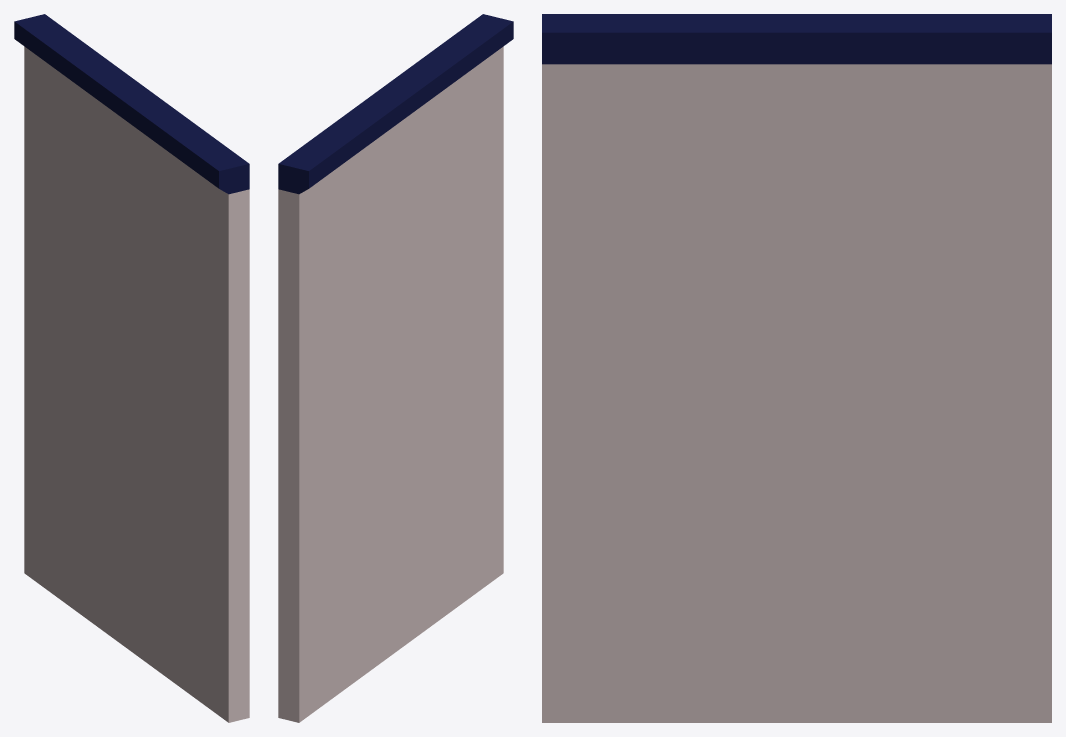
File: Wall3.001.fbx
The picture shows the model from 3 angles, left to right: view 1: azimuth 30°, elevation 25°; view 2: azimuth 150°, elevation 25°; view 3: azimuth 270°, elevation 25°; orthographic projection. The views are drawn at different scales.
Parts seen in each view (by area): view 1: Wall3.001; view 2: Wall3.001; view 3: Wall3.001.
Boxes of the visible parts, x1,y1,x2,y2 form: Wall3.001: (14,14,249,722); Wall3.001: (278,14,513,722); Wall3.001: (542,14,1051,722).
Bounding box in the file's own units: 2.8 × 48.64 × 32.56.
